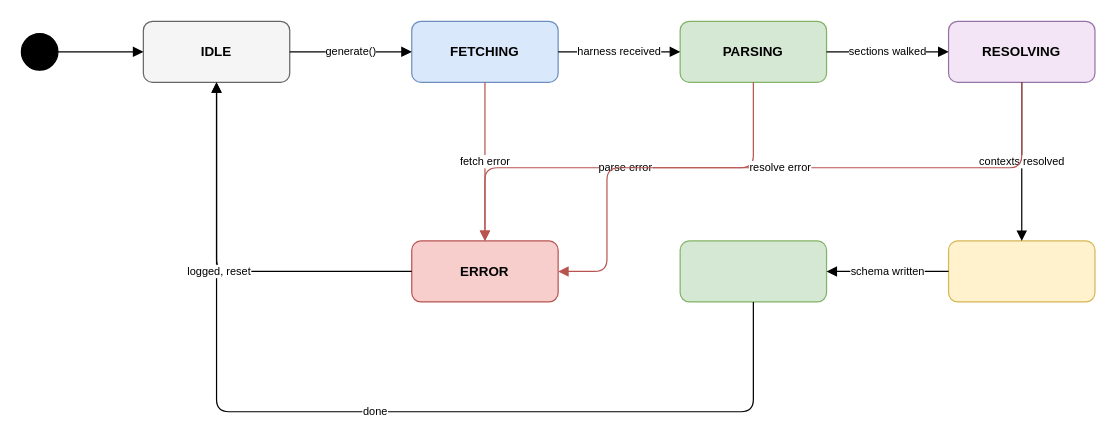
Image size: 1116x443. Some labels were removed from this diagram. The shapes that lost their labels are listed below. From the top down, each one's centre as x and y in pixels, then its label:
At (x=753, y=271): "COMPLETE".
At (x=1021, y=271): "GENERATING".
